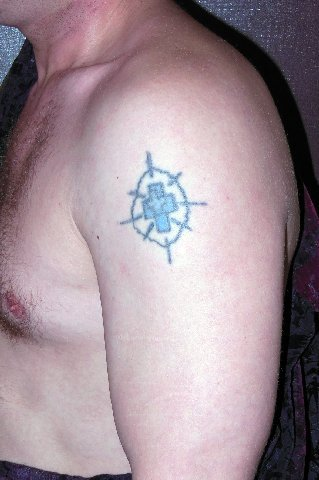tatu9_krest: (137, 184, 189, 236)
